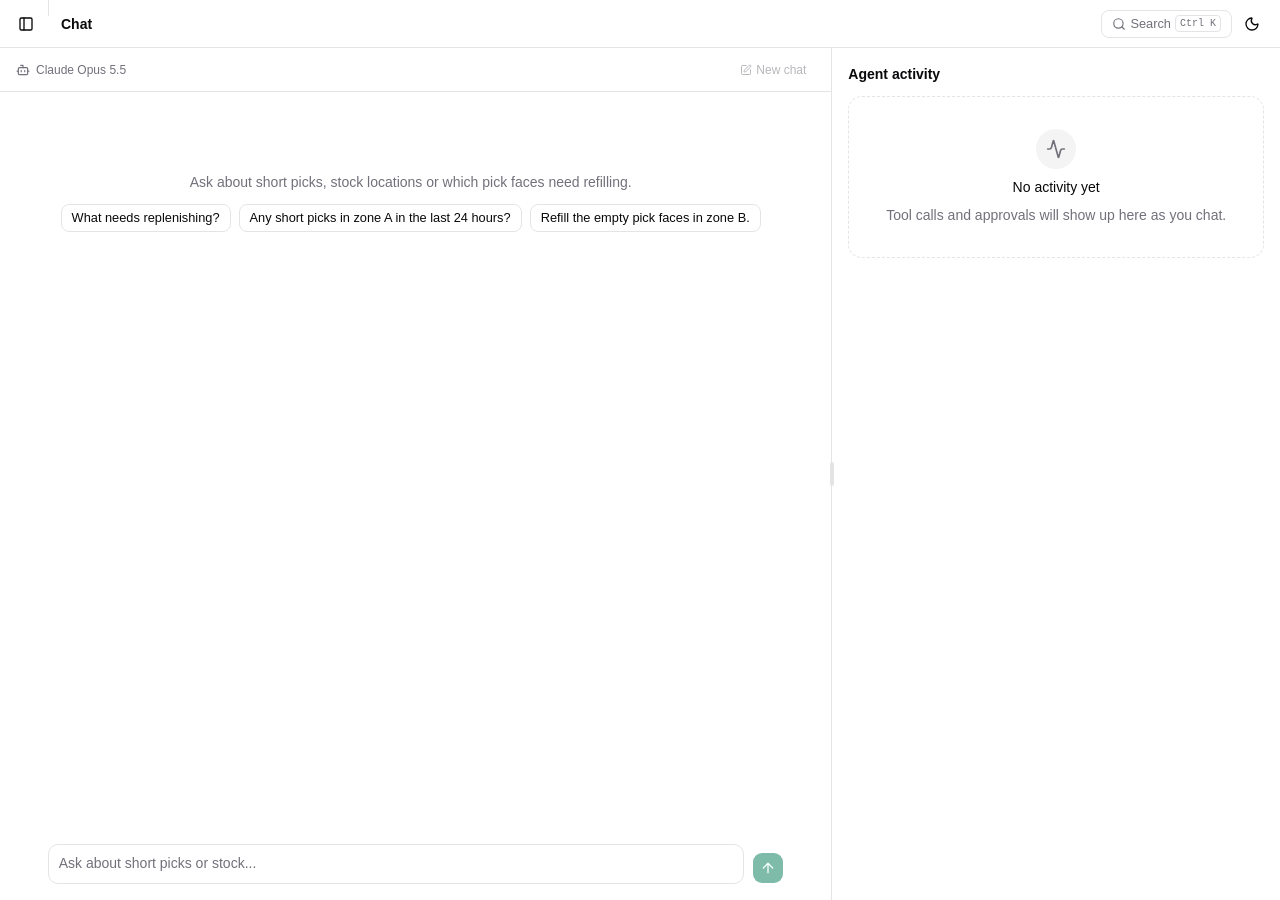
Test: App agent activity › clears the activity feed
Type "What needs stock?" into the text box named "Message".
click(396, 864); type("What needs stock?")  # box [48,844,744,884]
Then press Enter
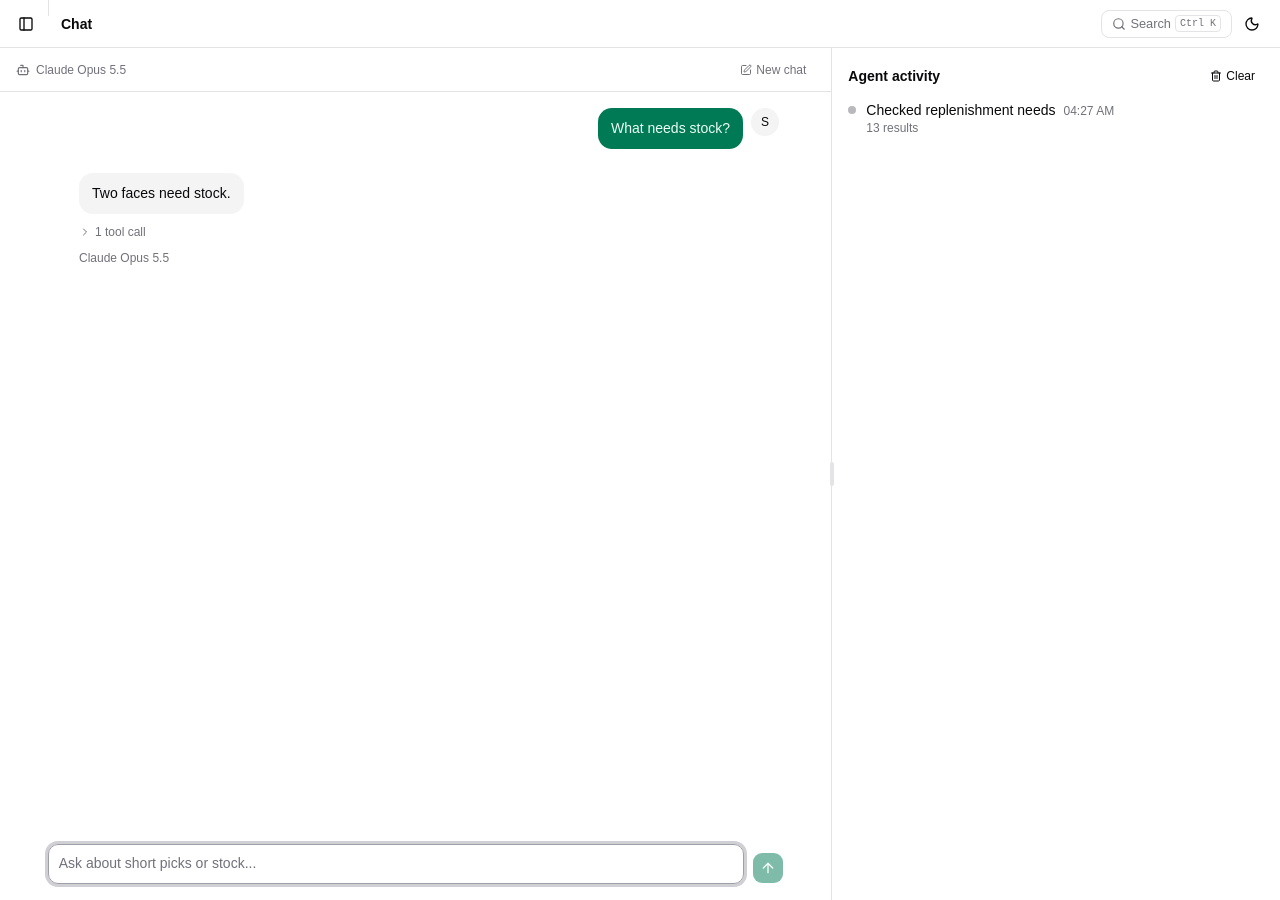
Check: the text "Checked replenishment needs" is shown, box [866,102,1055,118]
Click the button with aria-label "Clear agent activity".
click(1233, 76)  # box [1201,64,1264,88]
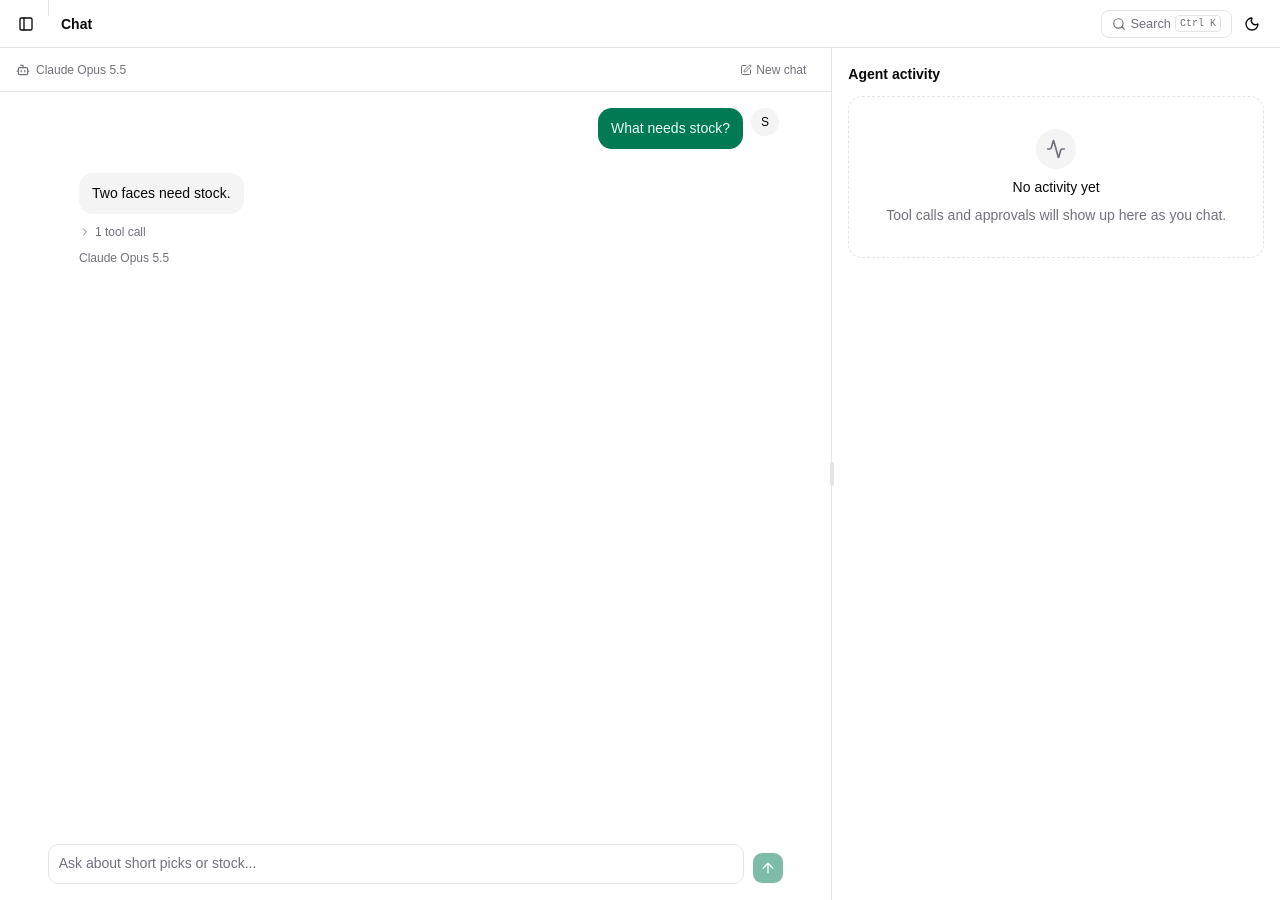
Check: the text "Two faces need stock." is shown, box [92,182,230,205]
Check: the text "Tool calls and approvals will show up here as you chat." is shown, box [886,205,1226,225]
